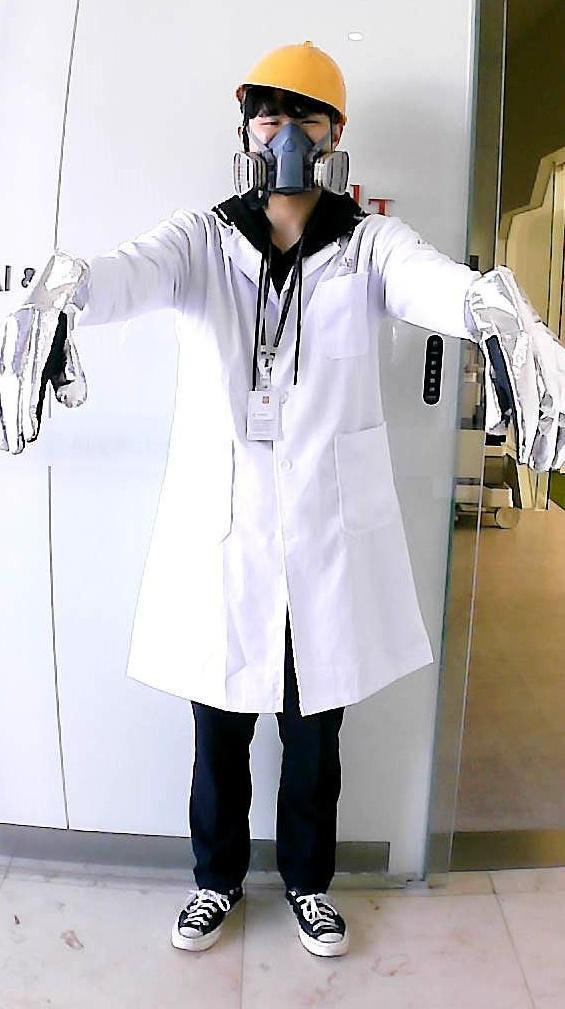lab_coat: (129, 228, 446, 699)
